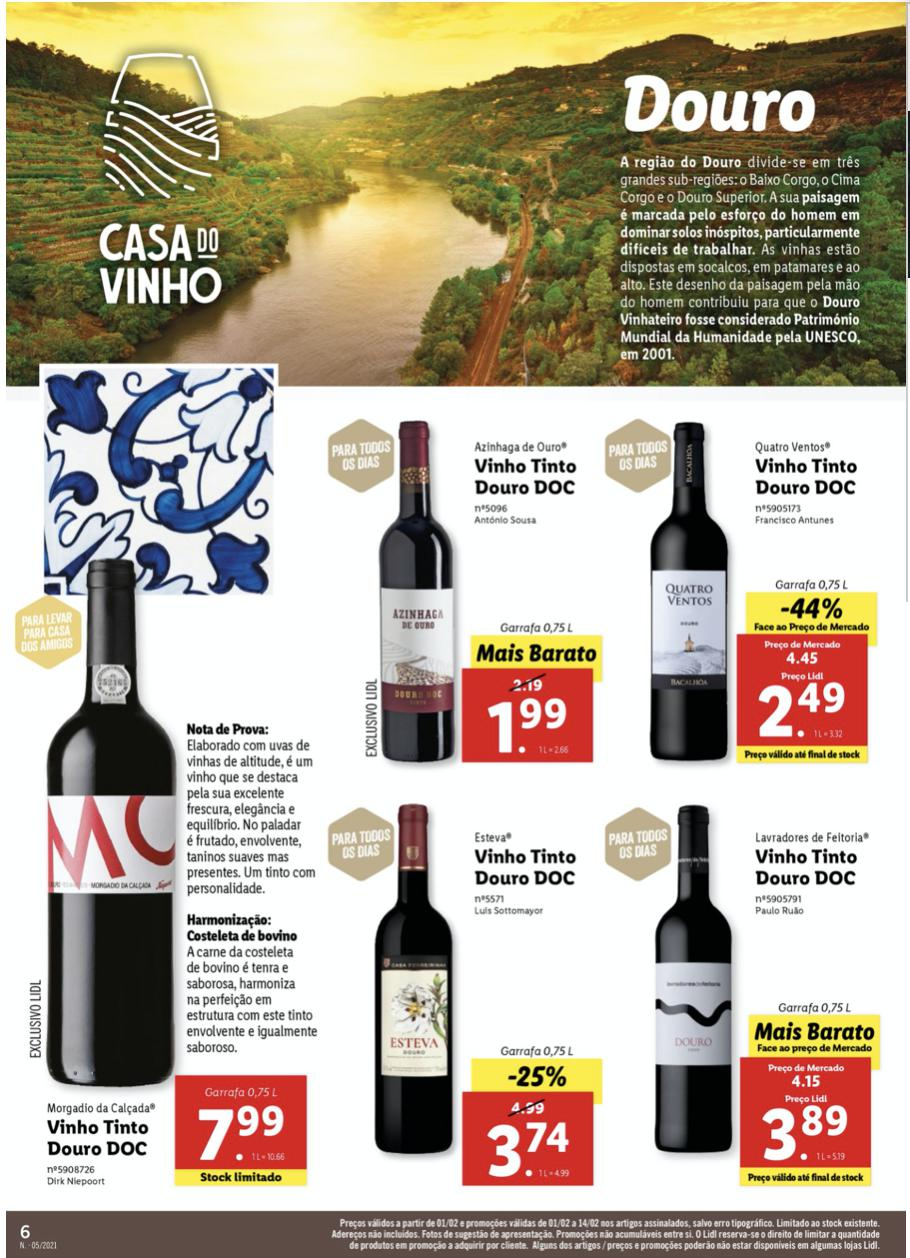name: (36, 1109, 155, 1167), (470, 842, 589, 894), (748, 448, 862, 500), (473, 455, 581, 503), (747, 845, 862, 890)
price: (186, 1098, 284, 1164), (758, 1101, 850, 1167), (481, 1120, 576, 1180), (758, 677, 847, 738), (486, 700, 570, 755)
product: (19, 551, 301, 1201), (605, 786, 903, 1198), (319, 787, 605, 1198), (601, 414, 887, 767), (328, 414, 597, 765)
promotion: (776, 595, 848, 622), (506, 1064, 570, 1094)
